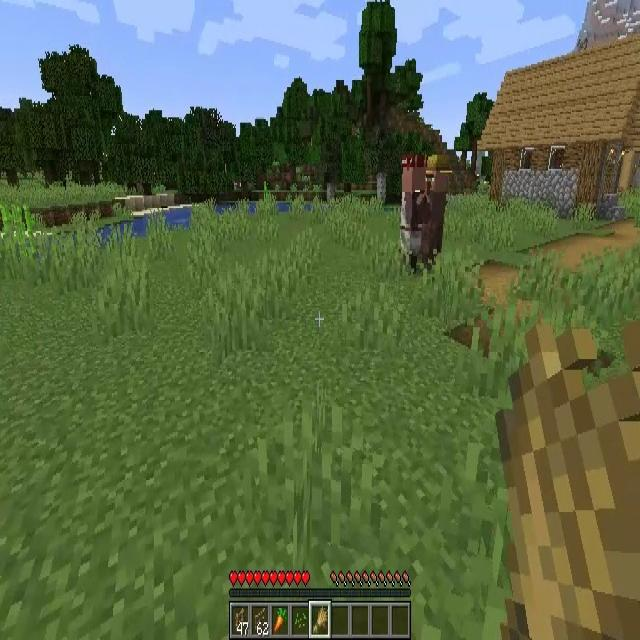people: (400, 154, 430, 270), (425, 155, 452, 255)
